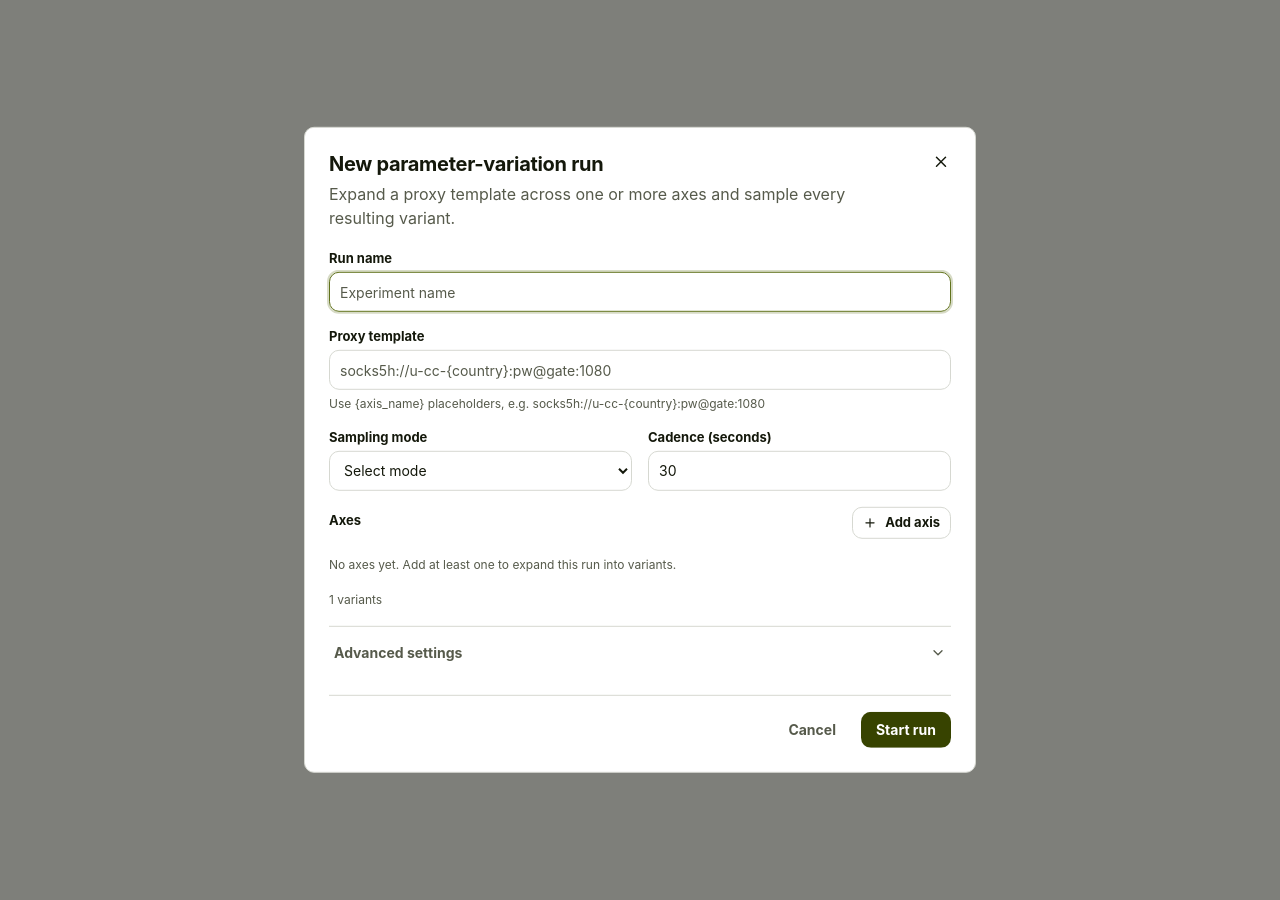
Test case: NewRunDialog › requires a name, template, and at least one axis
Click the button "Start run" at coordinates (906, 730), box x1=861 y1=712 x2=951 y2=748
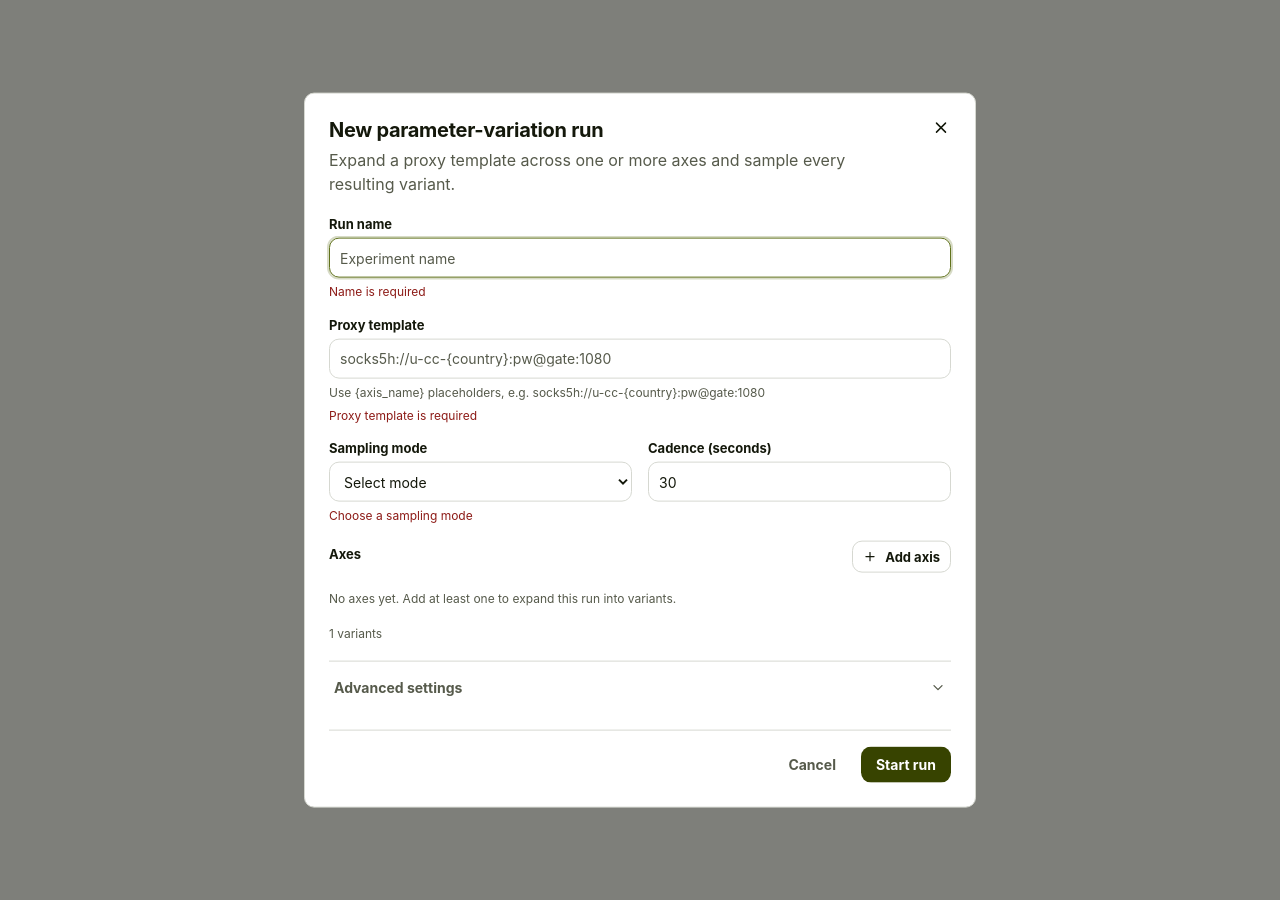
Now the text "Name is required" is shown, box x1=329 y1=284 x2=426 y2=299
